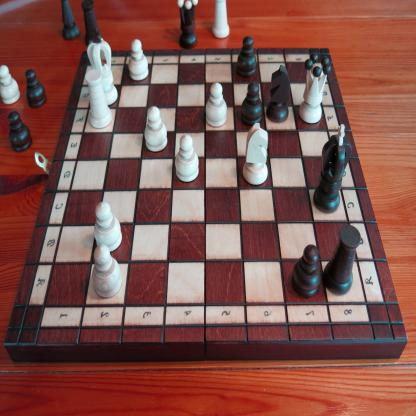black-bishop: (60, 0, 81, 41)
black-king: (312, 124, 352, 214)
black-knight: (266, 64, 290, 124)
black-pawn: (290, 243, 322, 299), (8, 110, 33, 153), (236, 35, 257, 78), (25, 68, 47, 109)
black-queen: (177, 0, 199, 50)
black-rook: (322, 223, 361, 296), (80, 0, 101, 48)
white-king: (87, 25, 118, 106)
white-knight: (242, 122, 269, 186)
white-pawn: (92, 243, 122, 299), (94, 201, 122, 252), (174, 134, 200, 183), (240, 80, 264, 126), (204, 82, 228, 128), (144, 106, 168, 152), (128, 38, 149, 81), (1, 63, 21, 107), (1, 64, 21, 106)
white-queen: (298, 52, 332, 124)
white-rook: (84, 69, 113, 129), (212, 0, 230, 39)
